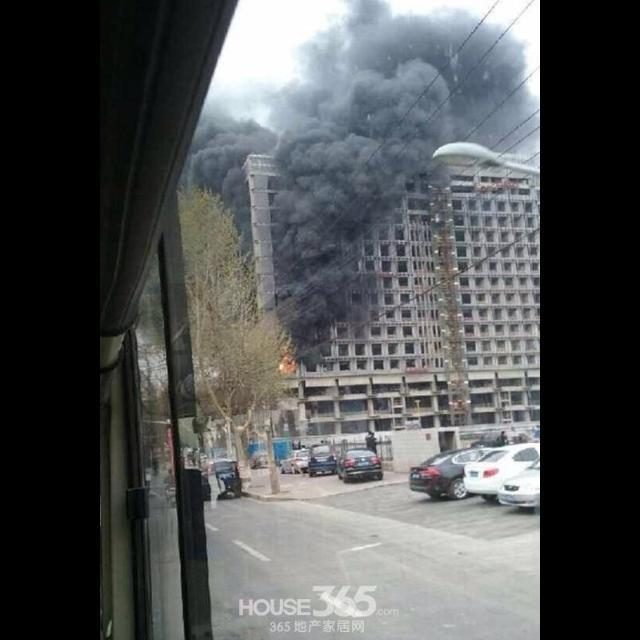Fire: (279, 354, 295, 374)
Smoke: (176, 1, 540, 365)
